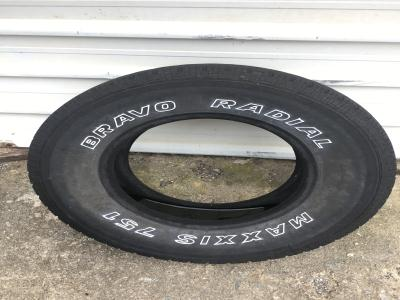tire: (26, 62, 399, 268)
